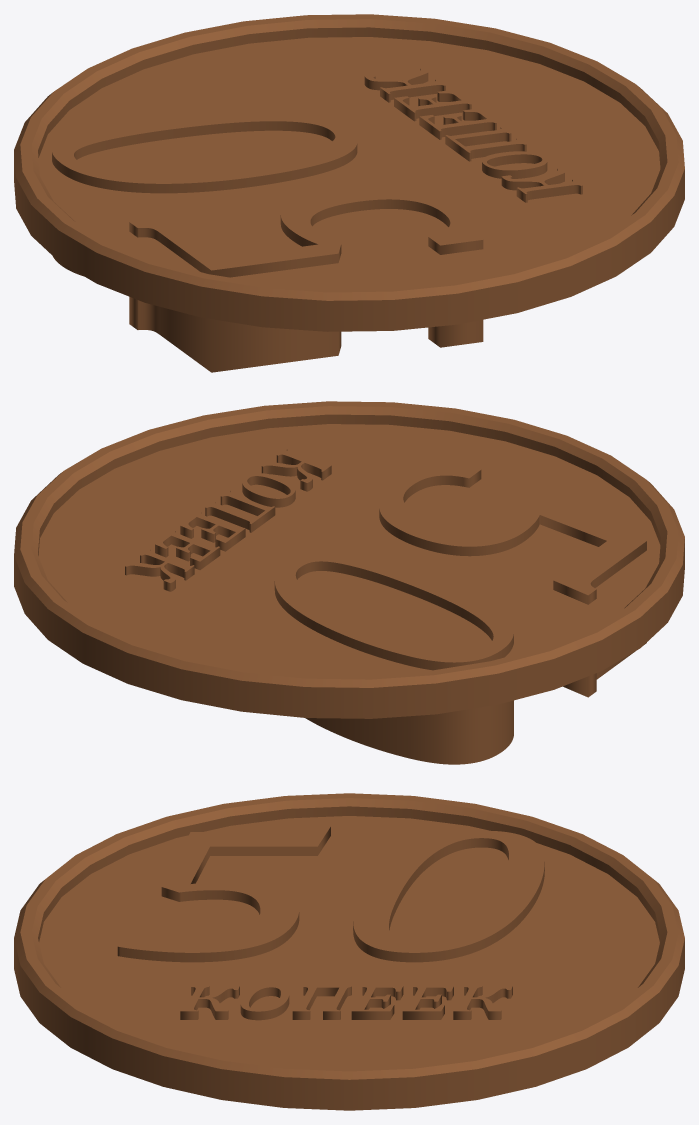
The model's file is 50 копеек.fbx.
The picture shows the model from 3 angles, top to bottom: view 1: azimuth 30°, elevation 25°; view 2: azimuth 150°, elevation 25°; view 3: azimuth 270°, elevation 25°; orthographic projection.
Visible parts, largest first — view 1: Окружность.002, Текст.004, Текст.005; view 2: Окружность.002, Текст.004, Текст.005; view 3: Окружность.002, Текст.004, Текст.005.
Part boxes in pixels (x1,y1,x2,y2): Окружность.002: (14,14,684,331); Текст.004: (52,107,483,372); Текст.005: (364,68,582,202); Окружность.002: (14,401,684,718); Текст.004: (274,457,646,764); Текст.005: (125,448,331,591); Окружность.002: (14,793,684,1110); Текст.004: (117,826,544,962); Текст.005: (180,985,512,1020).
Bounding box in the file's own units: 106 × 18.72 × 106.
